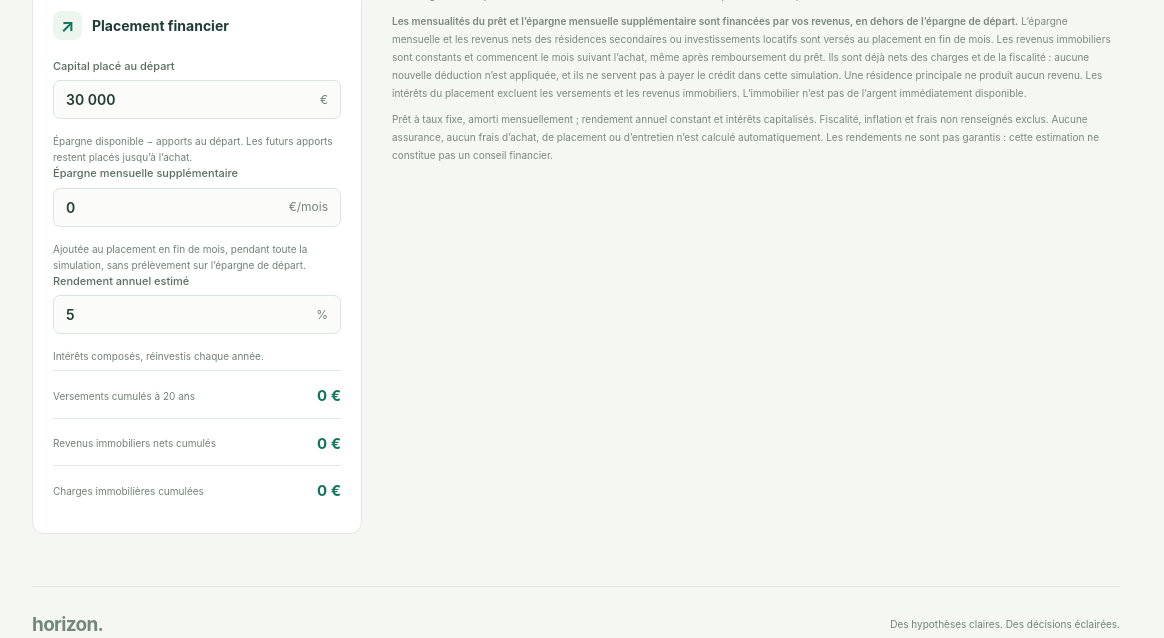
Test: App › defers the property and withdraws its deposit at the purchase year
The width and height of the screenshot is (1164, 638).
(page scrolled)
Replace the text in the number field with id "investment-rate" with "0" at {"x": 185, "y": 315}, box [54,296,316,333]
(page scrolled)
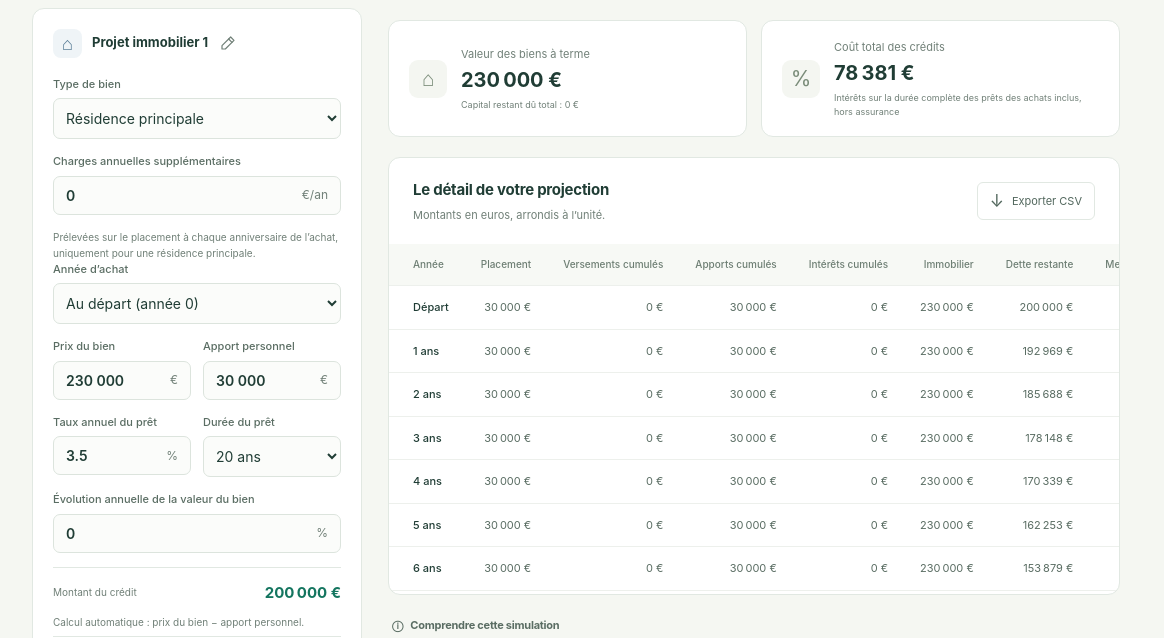
Select "Dans 2 ans" in the dropdown labelled "Année d’achat" at {"x": 197, "y": 304}, box [53,283,341,324]
(page scrolled)
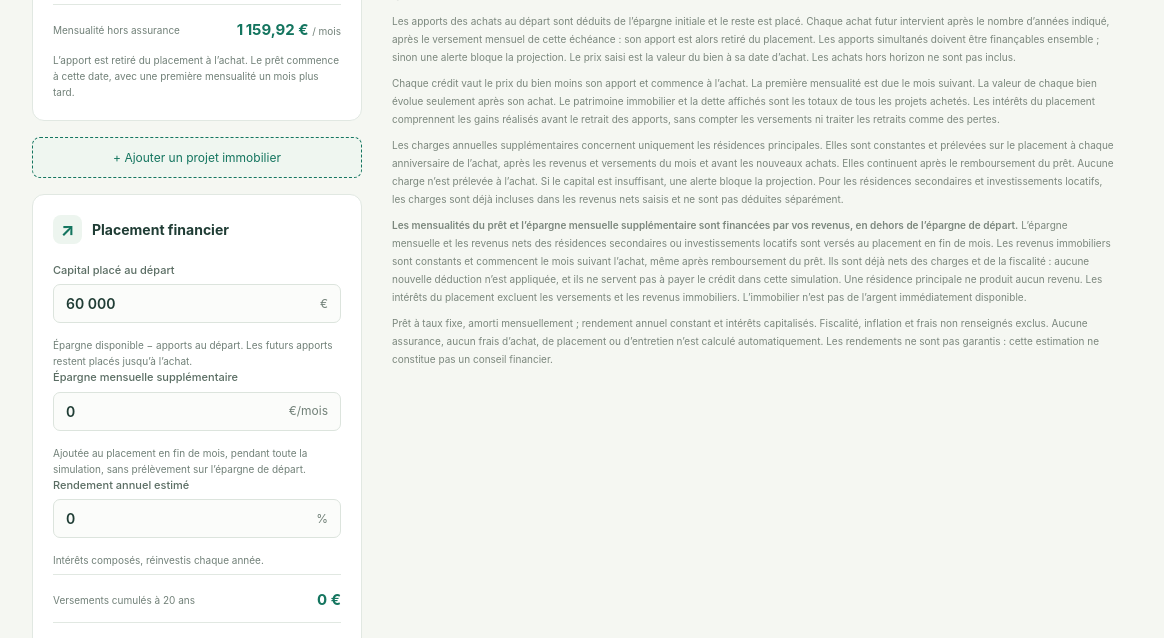
Expected: the field with id "investment" holds "60 000", [54,285,320,322]
